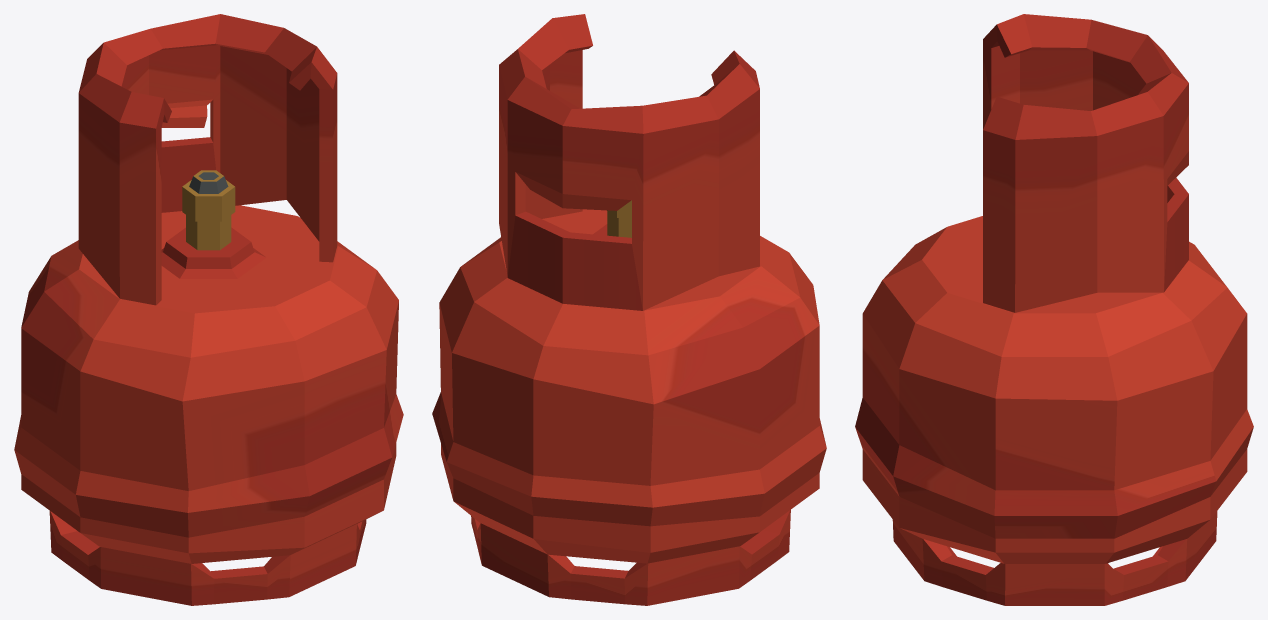
The model's file is SM_Barrel_B_01.fbx.
3 views of the same model, side by side, from view 1: azimuth 30°, elevation 25°; view 2: azimuth 150°, elevation 25°; view 3: azimuth 270°, elevation 25° (orthographic).
Visible parts, largest first — view 1: SM_Barrel_B_01; view 2: SM_Barrel_B_01; view 3: SM_Barrel_B_01.
Boxes of the visible parts, bbox=[...] form: SM_Barrel_B_01: bbox=[14, 14, 403, 605]; SM_Barrel_B_01: bbox=[432, 14, 826, 605]; SM_Barrel_B_01: bbox=[855, 14, 1253, 605].
Size of the model in its own units: 36.62 by 51.39 by 38.39.
